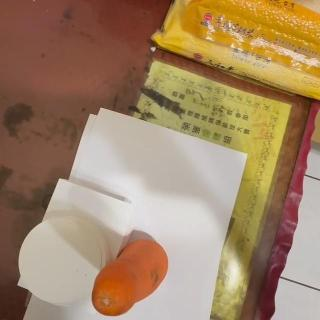carrot: (94, 241, 169, 315)
